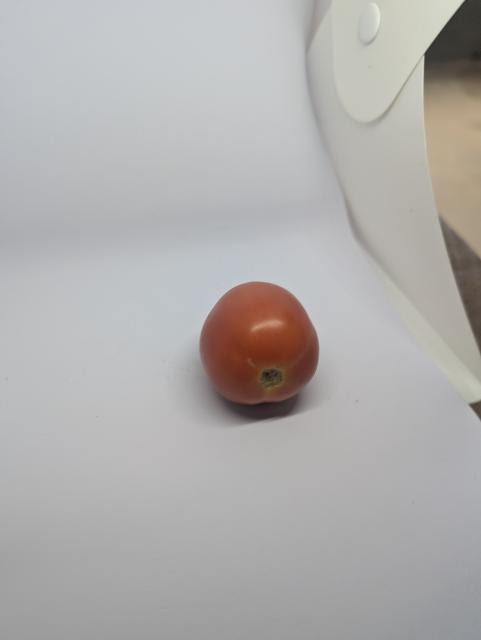red: (189, 275, 335, 420)
